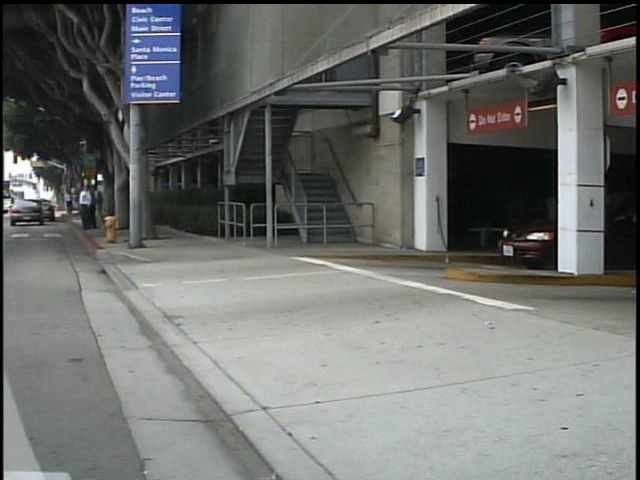person: (67, 186, 83, 220)
